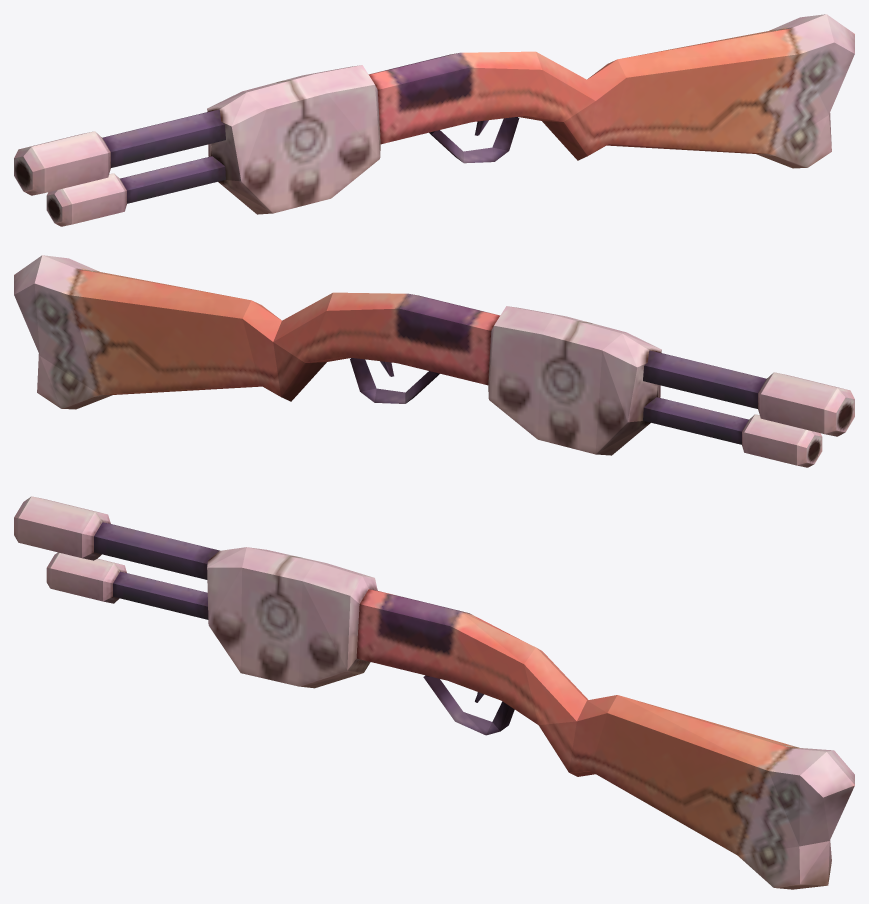
The model's file is Rabbit_standardGun.obj.
The picture shows the model from 3 angles, top to bottom: view 1: azimuth 30°, elevation 25°; view 2: azimuth 150°, elevation 25°; view 3: azimuth 330°, elevation 25°; orthographic projection.
Visible parts, largest first — view 1: Rabbit_standardGun_tri; view 2: Rabbit_standardGun_tri; view 3: Rabbit_standardGun_tri.
Part boxes in pixels (x1,y1,x2,y2): Rabbit_standardGun_tri: (14,14,854,226); Rabbit_standardGun_tri: (14,255,854,467); Rabbit_standardGun_tri: (14,496,854,889).
Bounding box in the file's own units: 0.7559 × 0.1834 × 0.0539.
Materials: 1 (1 with a texture image).
